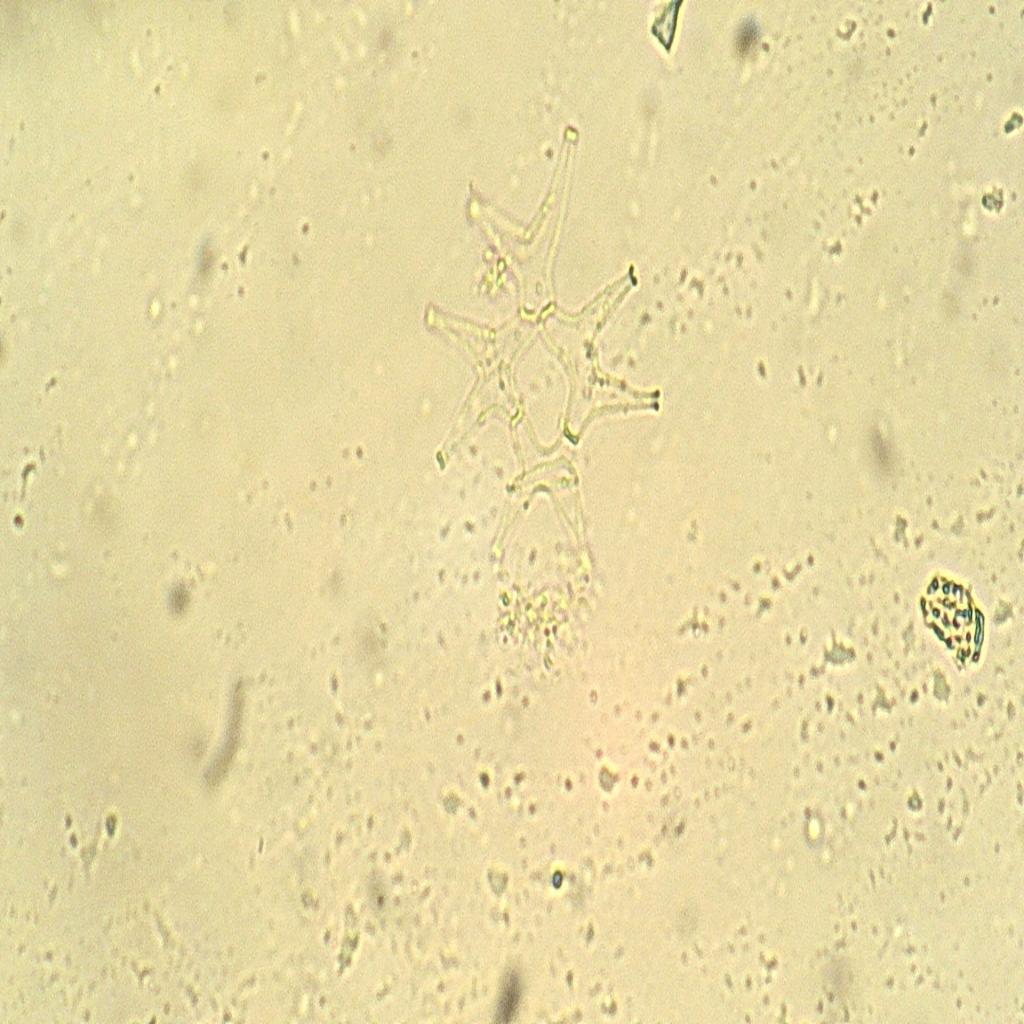Pediastrum_1F0: (414, 100, 668, 651)
